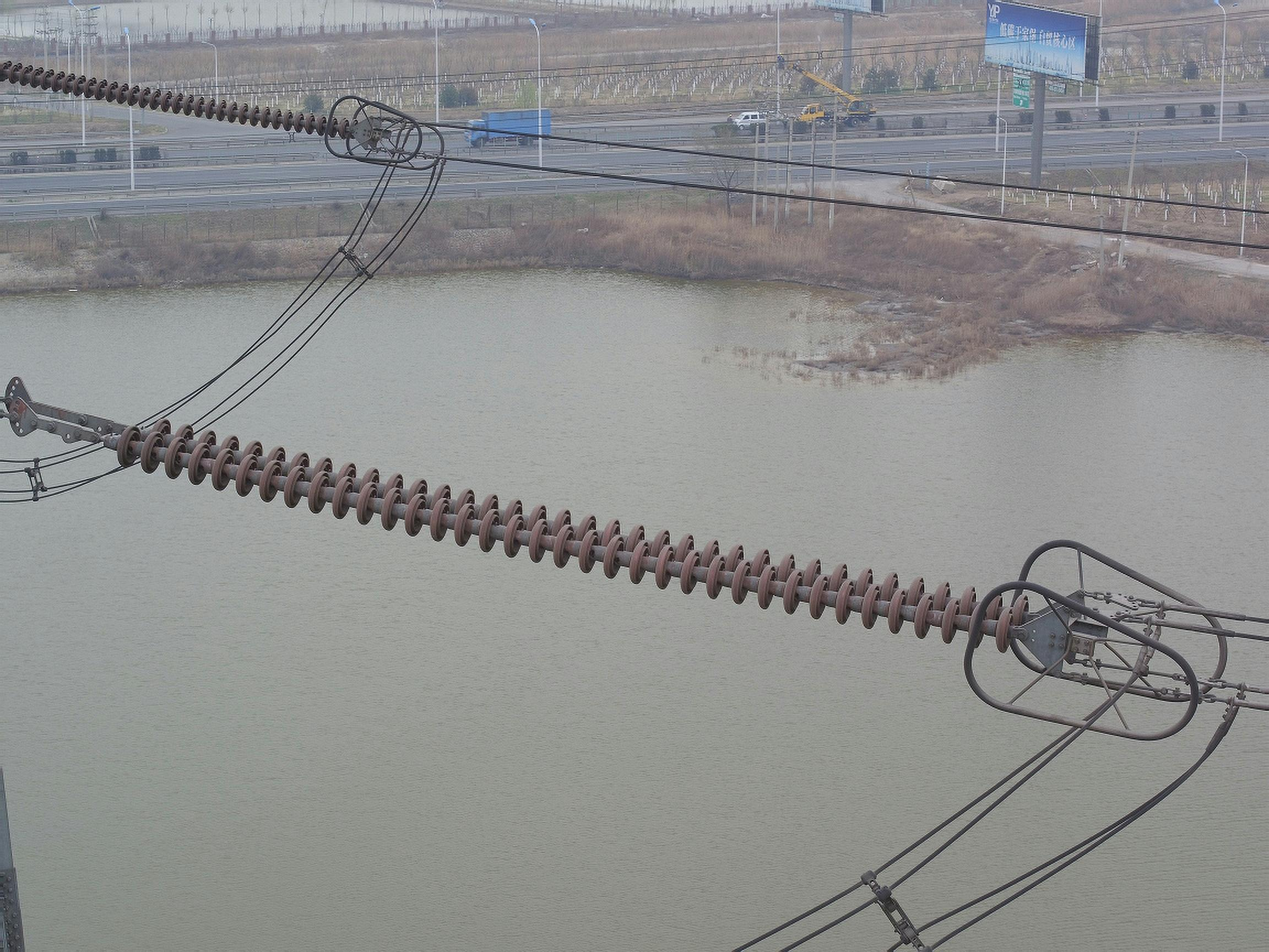insulator: (110, 413, 1036, 657), (1, 56, 365, 144)
